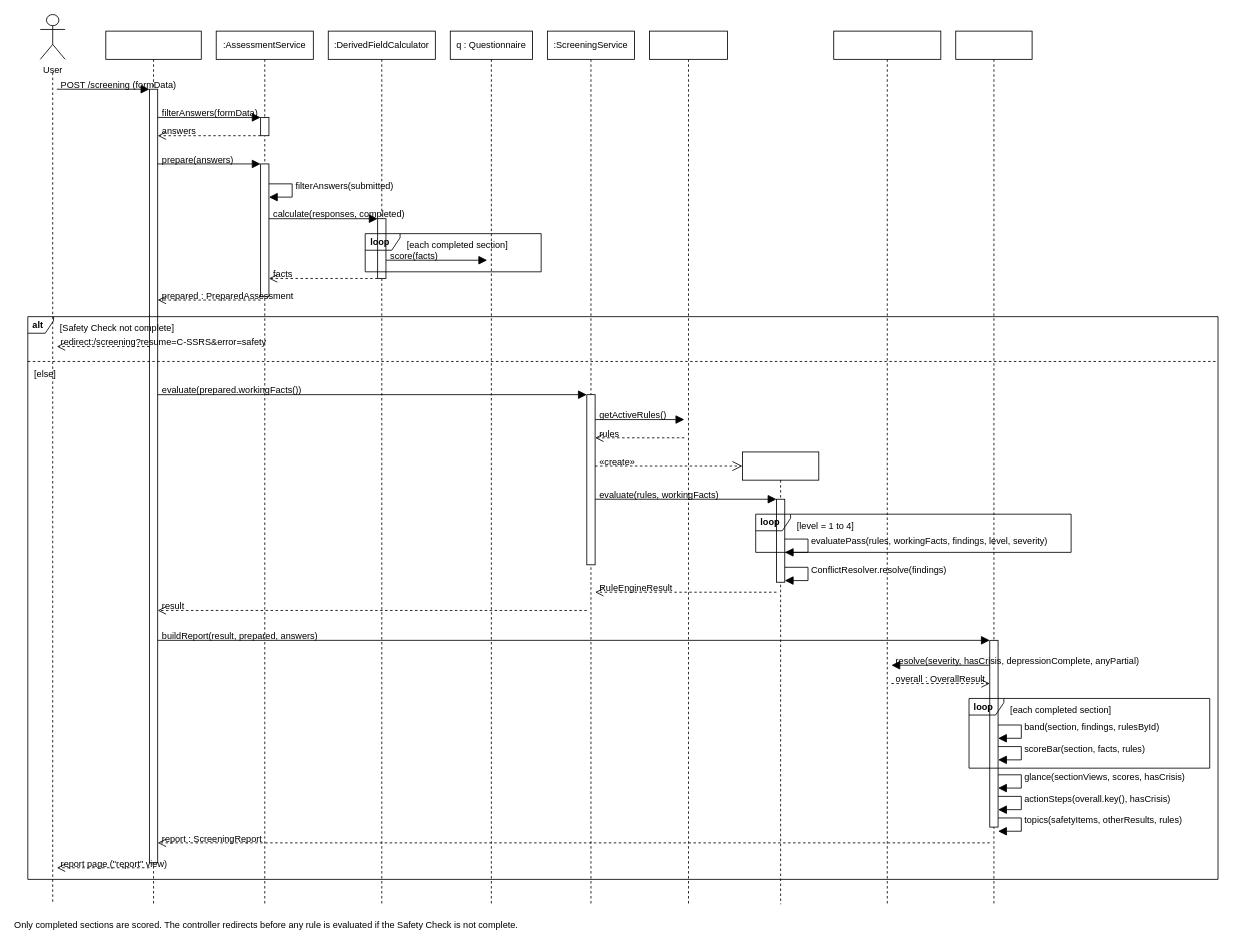
The diagram is 1233 pixels wide and 945 high, and some of its shapes have lost their labels. Here are the shapes that lost their labels. From the top down, the box of each, then its label:
(105, 30, 201, 904): :ScreeningController
(649, 30, 727, 904): :RuleRepository
(833, 30, 941, 904): :OverallResultResolver
(955, 30, 1032, 904): :ReportService
(742, 451, 819, 904): :RuleEngine
